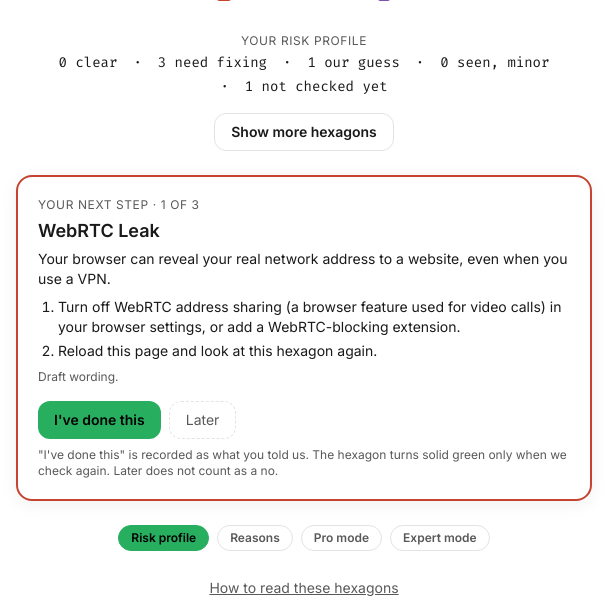
Test: HexagonGrid, one job per screen (MPC-7916 Phase 2) › "I've done this" makes the tile medium green "You told us", never solid, and counts as you told us, not clear
(page scrolled)
Click the button "I've done this" at [99, 420], box x1=38 y1=400 x2=161 y2=438
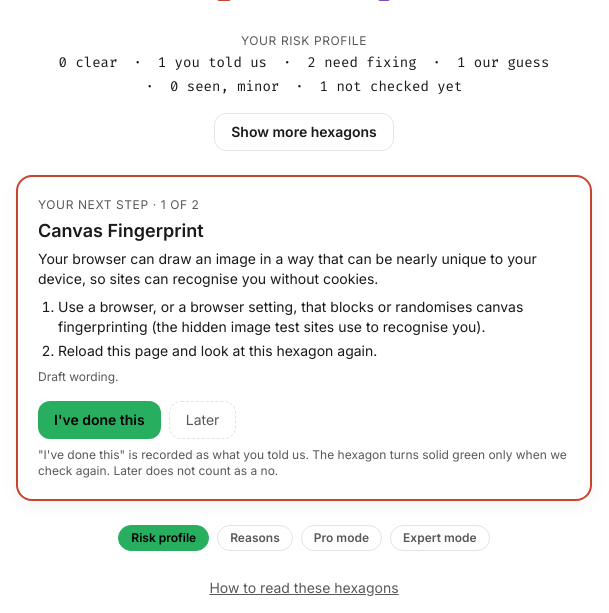
Check: the element with test id "risk-profile" shows "1 you told us", box x1=158 y1=52 x2=267 y2=72
Check: the element with test id "risk-profile" shows "2 need fixing", box x1=307 y1=52 x2=417 y2=72
Check: the element with test id "next-step" shows "Canvas Fingerprint", box x1=38 y1=220 x2=204 y2=240
